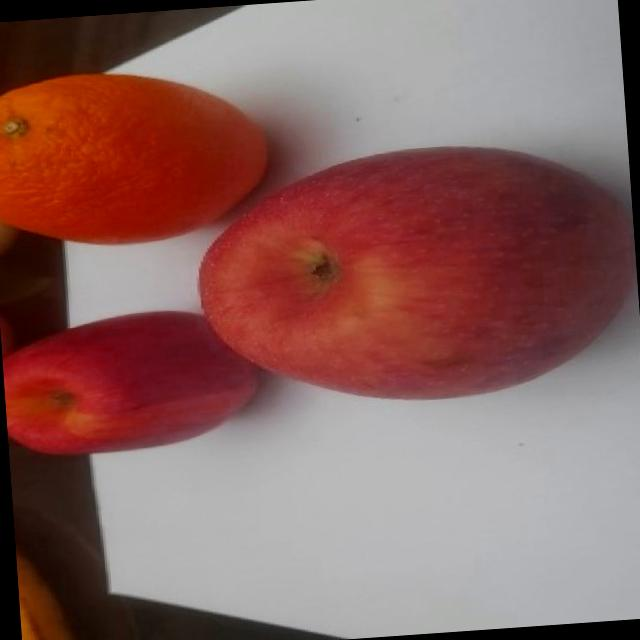Apple: (189, 131, 640, 415)
Banana: (16, 545, 82, 640)
Orange: (0, 58, 275, 252)
